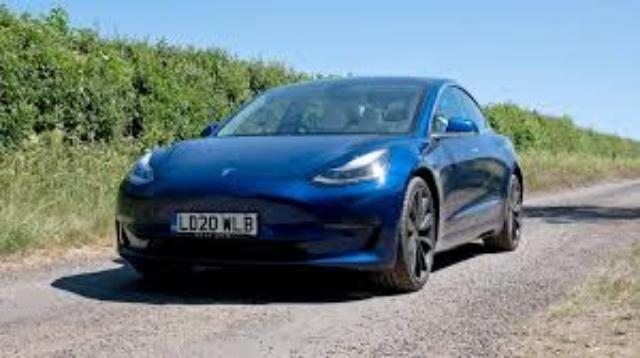tesla: (113, 75, 524, 291)
